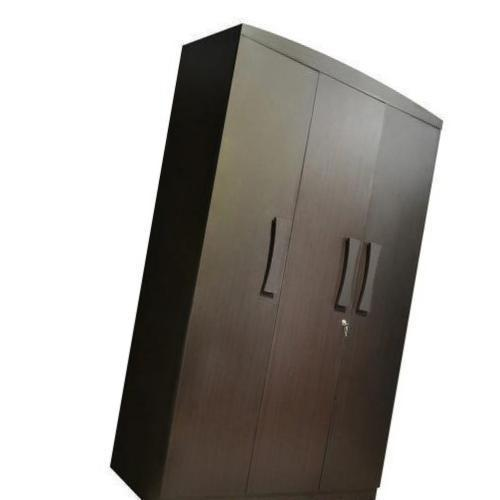Armario: (103, 24, 438, 496)
